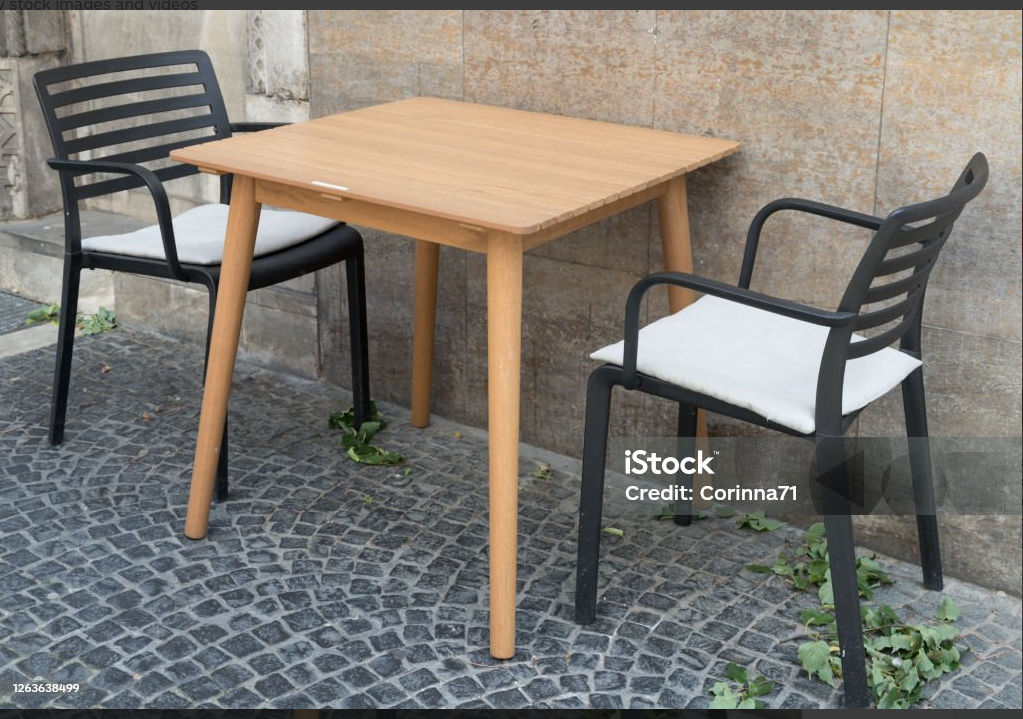obstacle: (176, 97, 741, 662), (564, 150, 991, 701), (29, 52, 376, 491)
